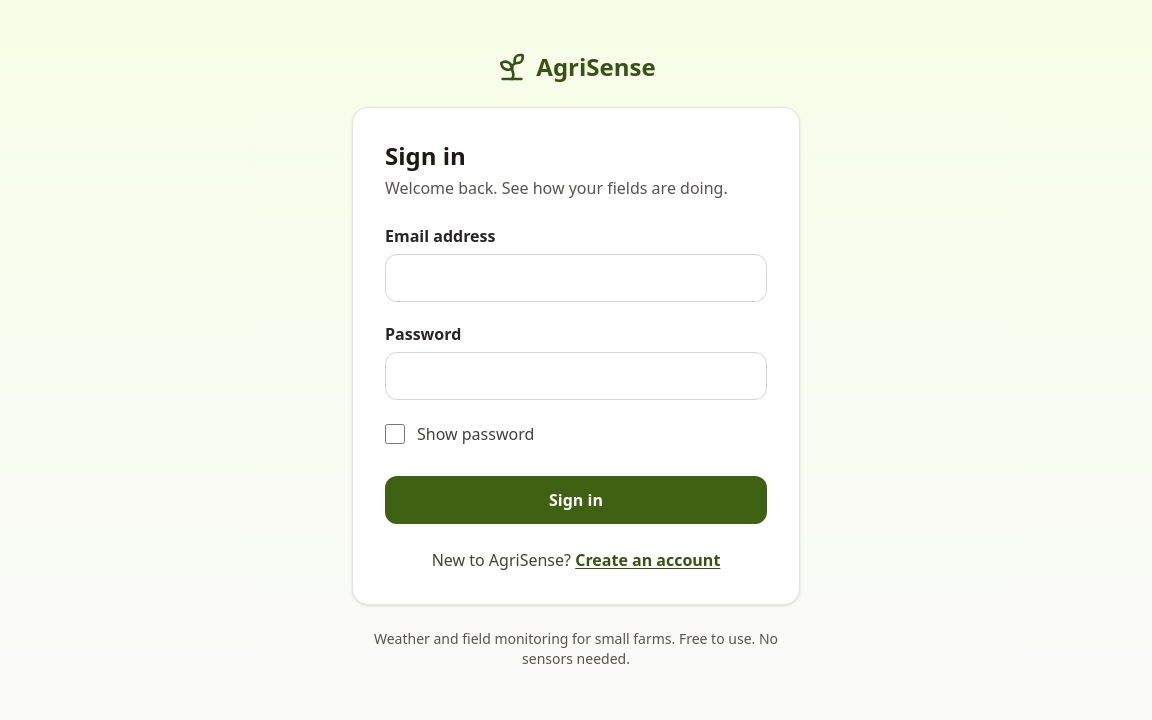
LoginPage › explains a wrong password in plain language
The image size is (1152, 720).
Type "farmer@example.com" into the field labelled "Email address" at (576, 278), box 385,254 -> 767,302
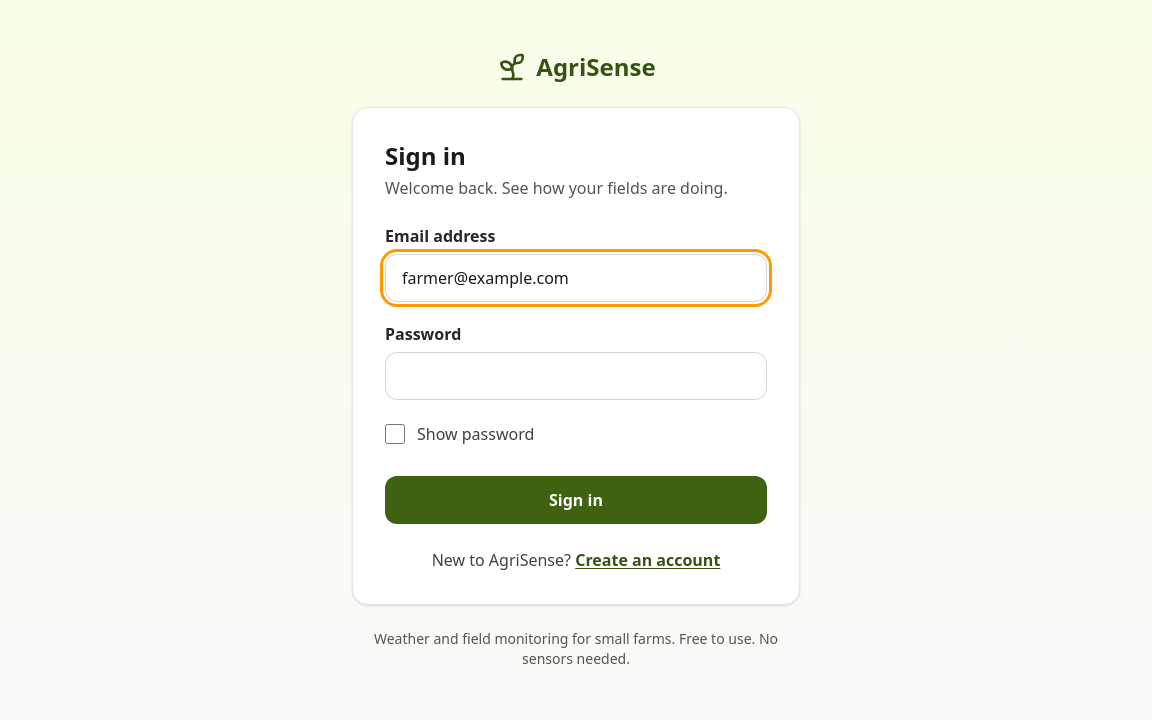
Type "wrong-password" into the password field labelled "Password" at (576, 376), box 385,352 -> 767,400
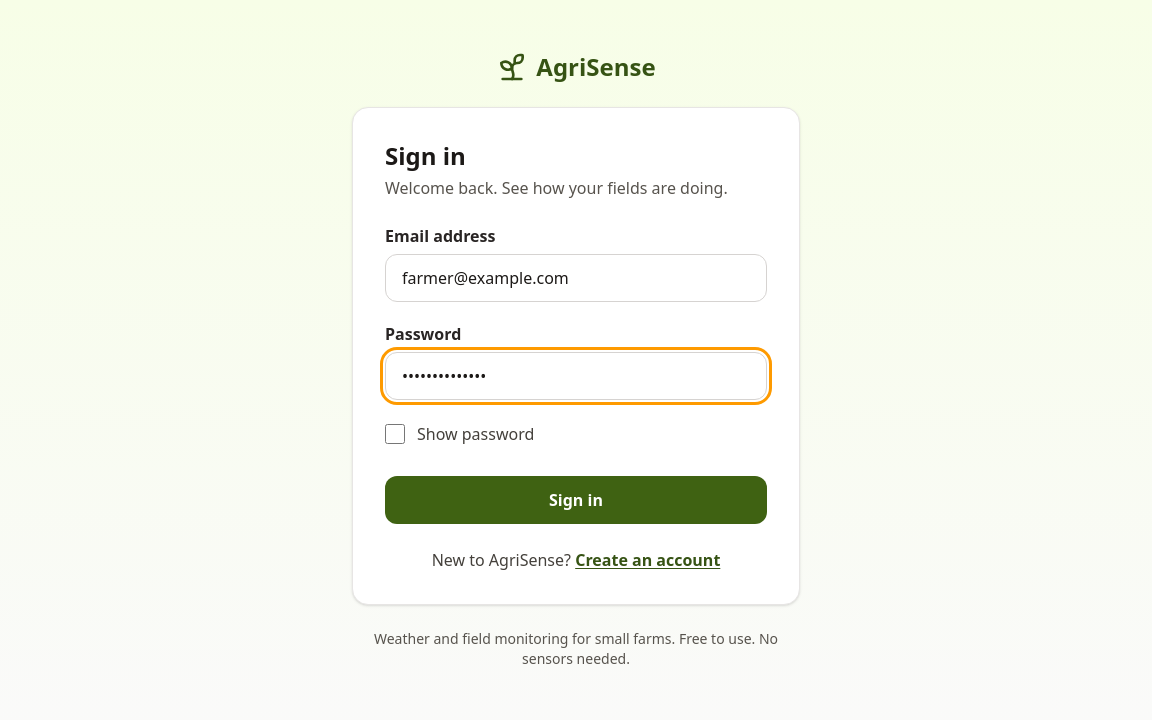
Click the button "Sign in" at (576, 500), box 385,476 -> 767,524
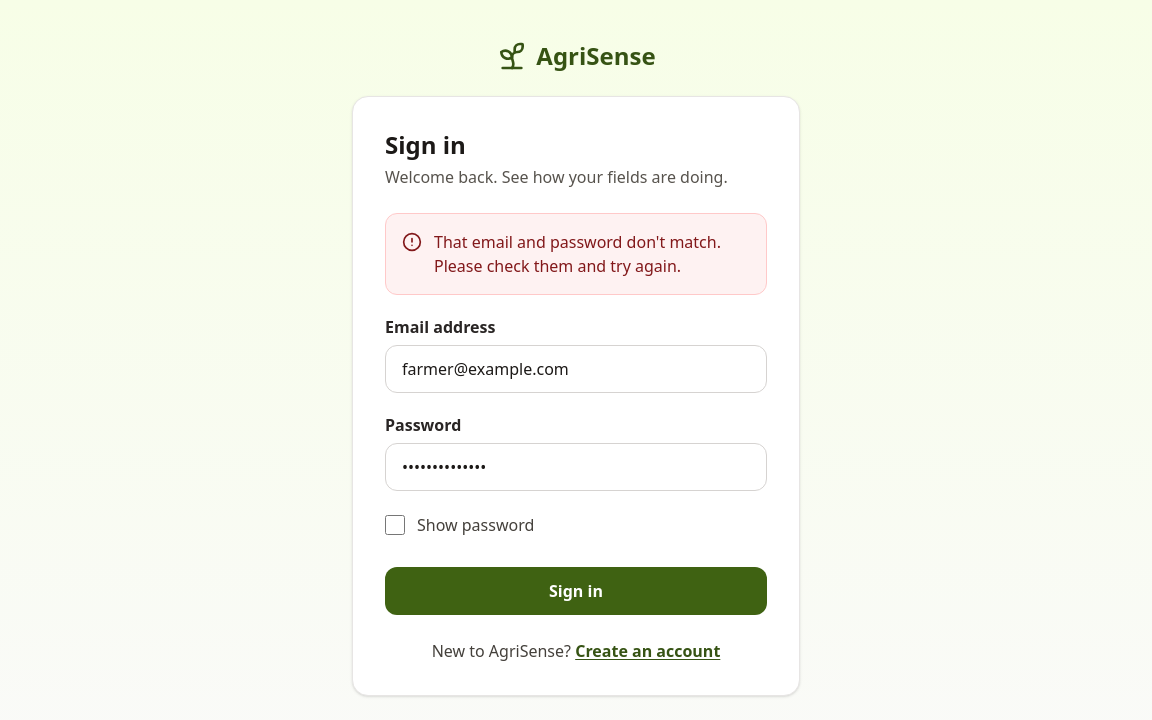
Result: the message shows "That email and password don't match" at 434,231 -> 721,277
